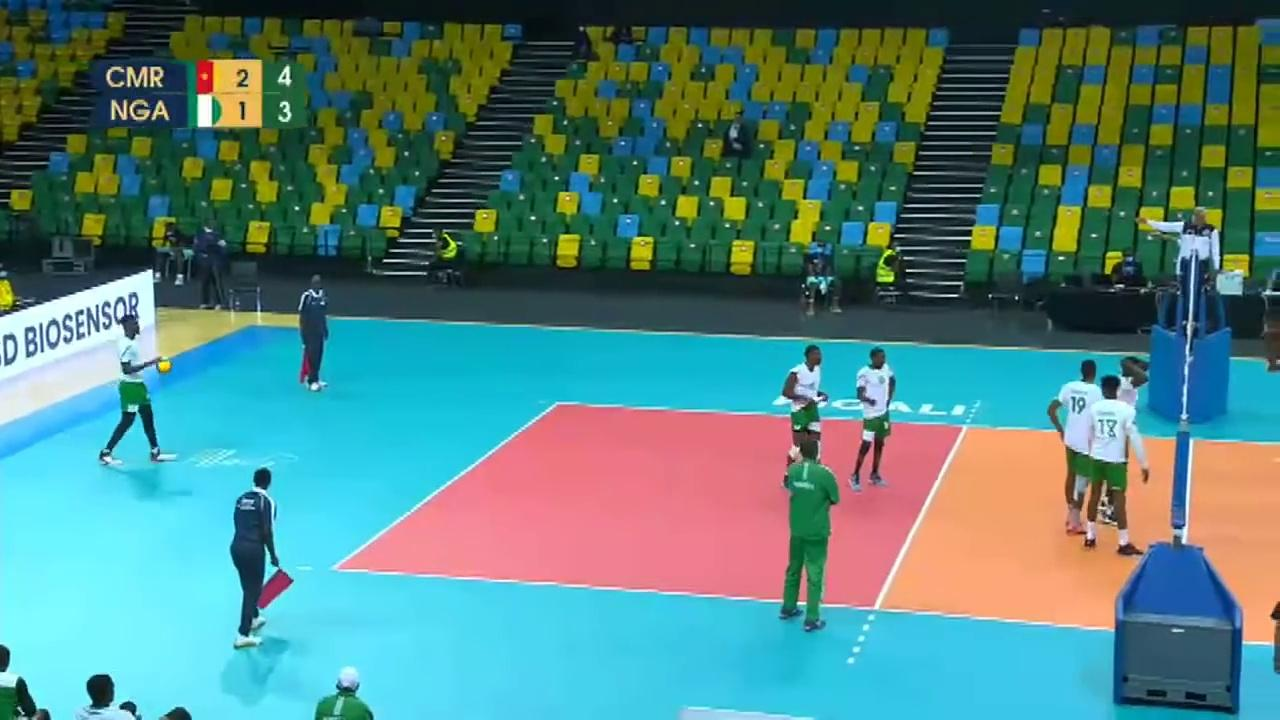player: (1086, 368, 1155, 566), (100, 315, 175, 461), (1046, 354, 1106, 535), (1101, 356, 1151, 525), (779, 346, 832, 489), (849, 349, 897, 493)
refree: (229, 470, 289, 643), (1170, 204, 1221, 309), (299, 275, 332, 393)
